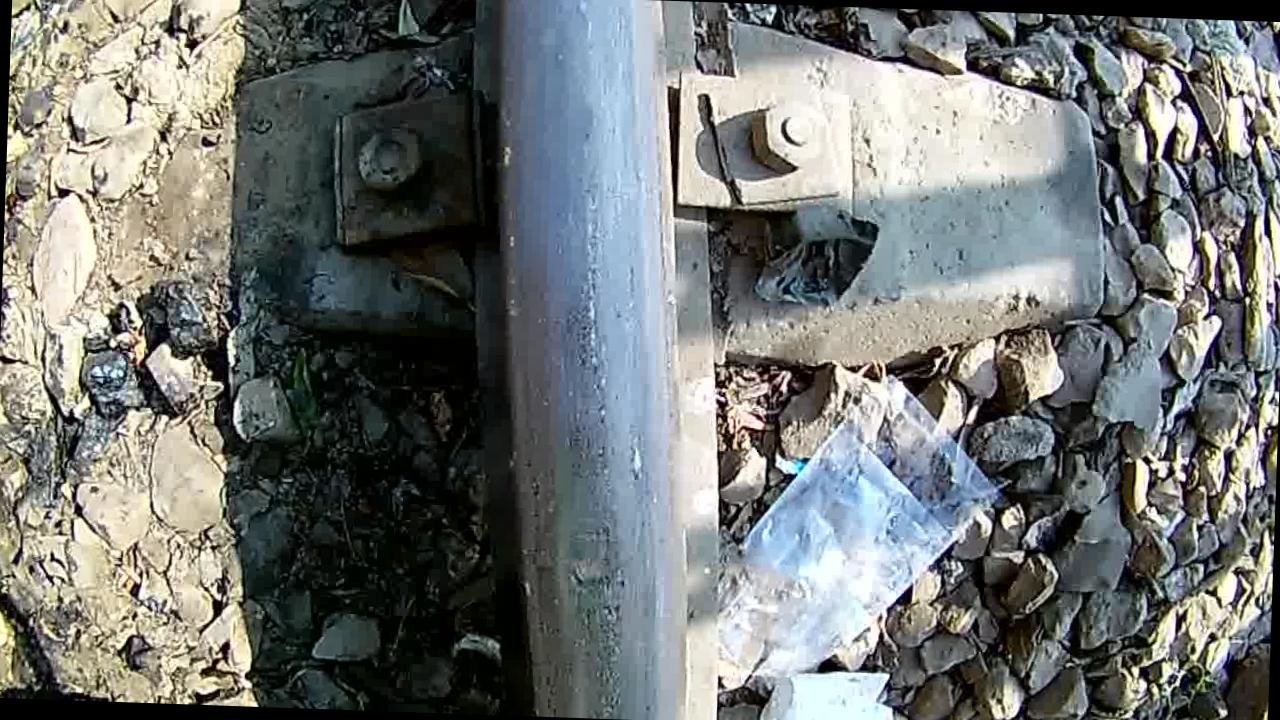bolt_missing: (504, 376, 668, 694)
